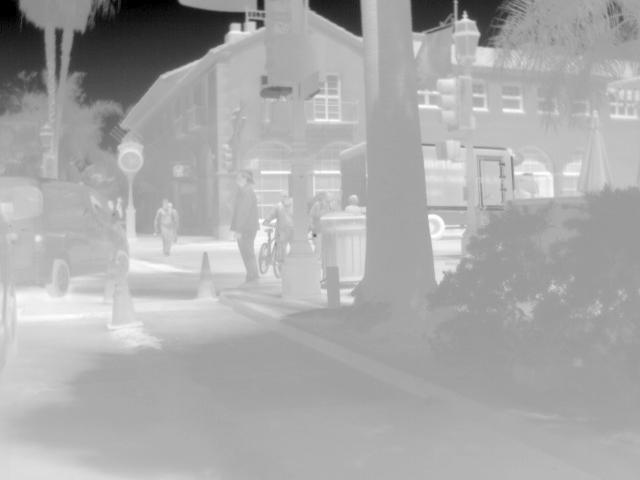car: (0, 174, 131, 298)
person: (228, 169, 265, 283), (262, 194, 300, 264), (152, 198, 176, 256), (308, 190, 337, 225), (344, 196, 364, 215)
